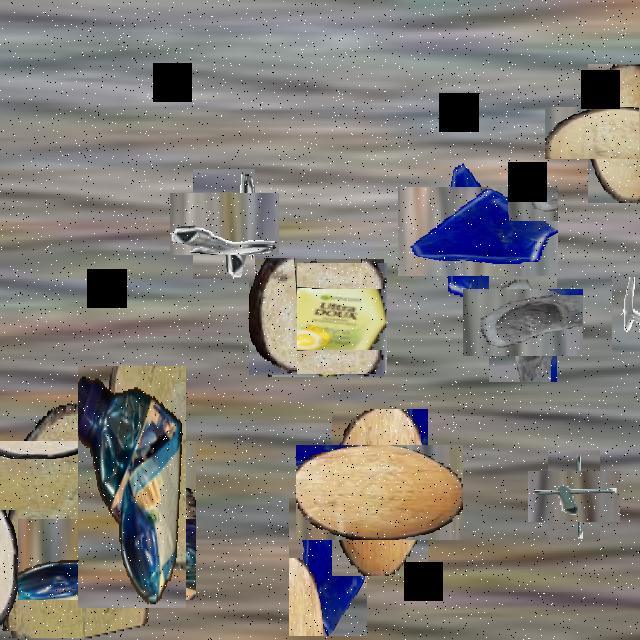glass: (416, 168, 540, 294), (289, 498, 367, 636), (476, 275, 570, 369)
metal: (181, 181, 267, 267), (538, 460, 610, 532), (612, 277, 640, 352)
plastic: (78, 366, 186, 608), (270, 261, 386, 375)
wood: (0, 422, 177, 619), (314, 427, 446, 558), (566, 85, 640, 181), (249, 258, 297, 375), (0, 510, 18, 631)
